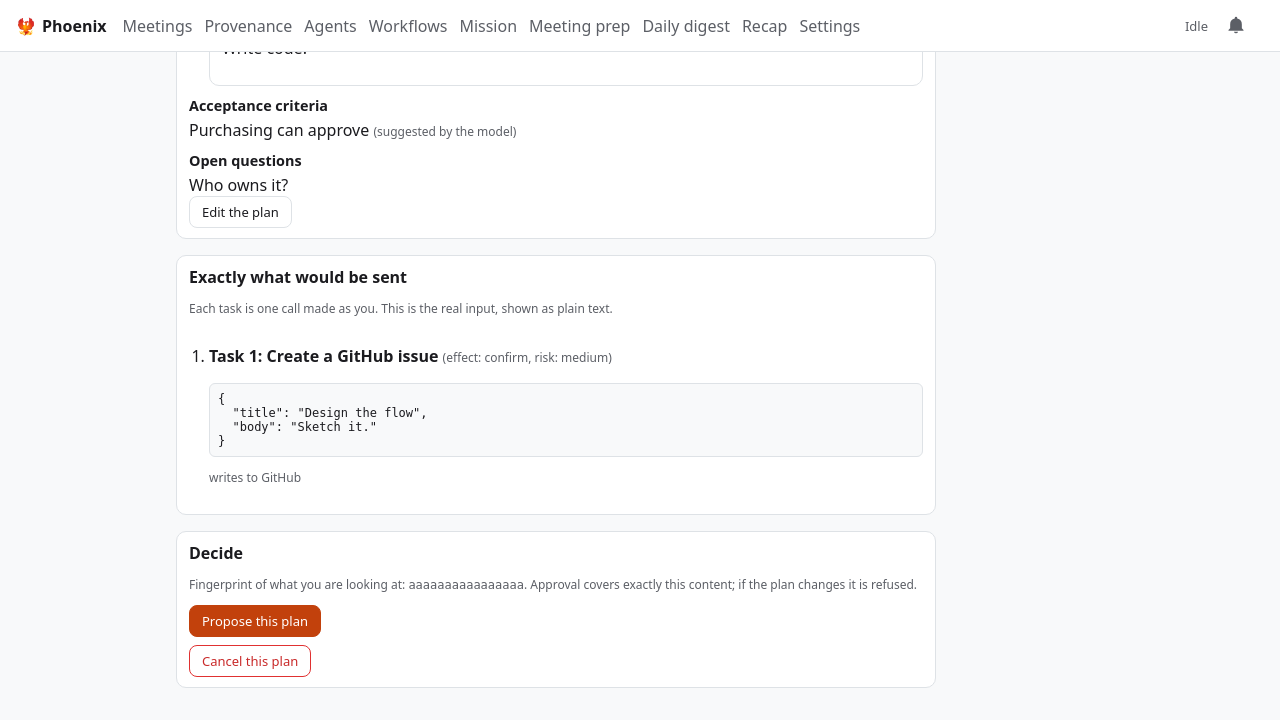
it: Plan page › walks draft → propose → approve with the hash on screen, and nothing is created
(page scrolled)
Click the button "Propose this plan" at (255, 621), box top-left (189, 605), bottom-right (321, 637)
(page scrolled)
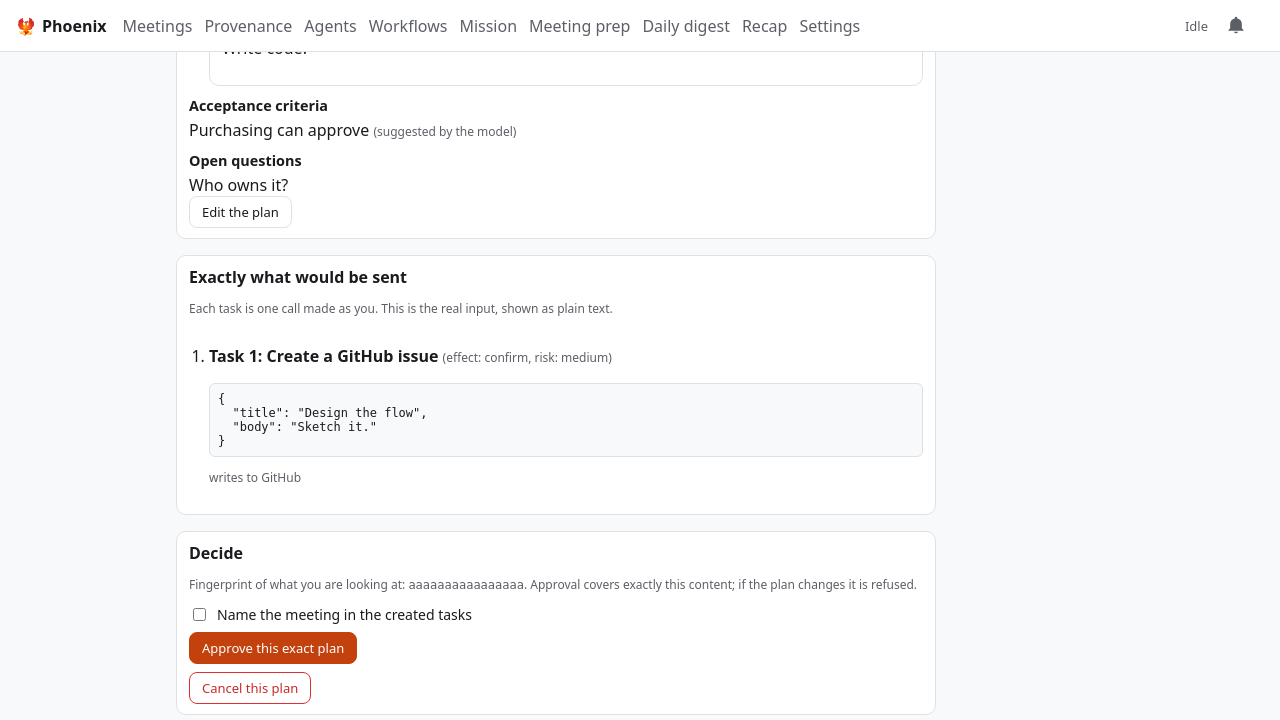
Click the button "Approve this exact plan" at (273, 648), box top-left (189, 632), bottom-right (357, 664)
(page scrolled)
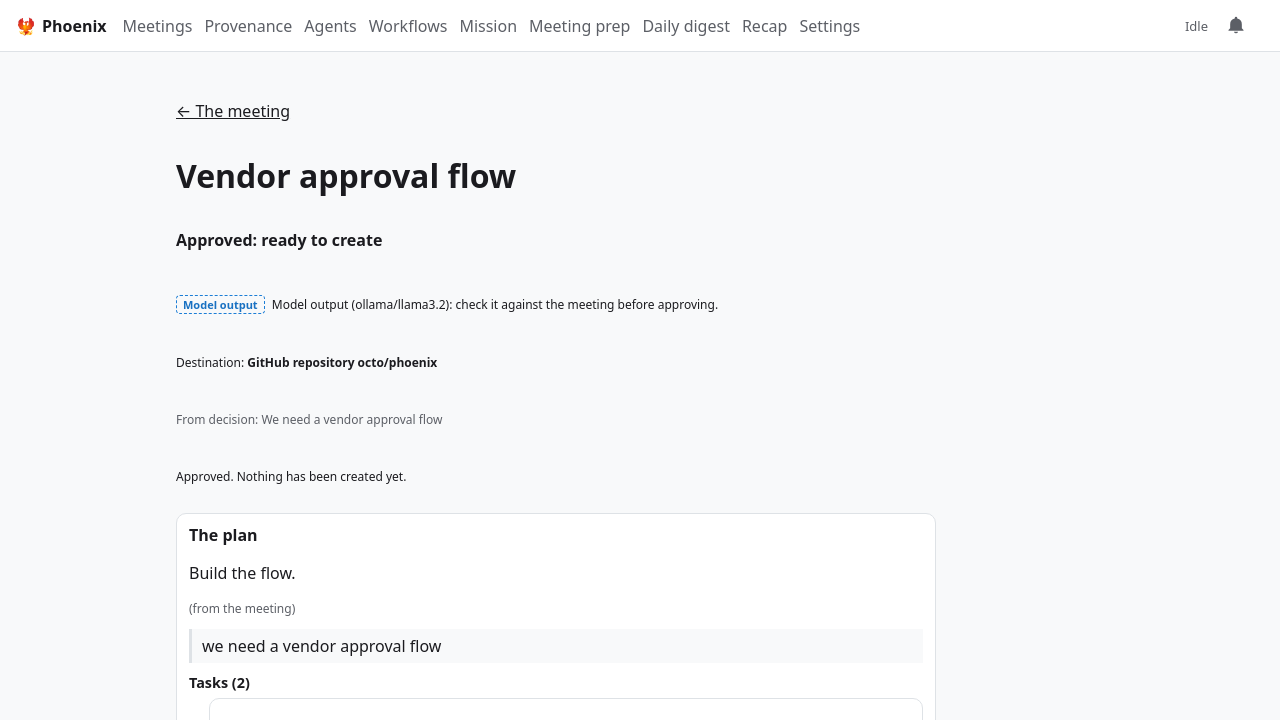
Now the text "Approved: ready to create" is shown, box top-left (176, 229), bottom-right (382, 251)
